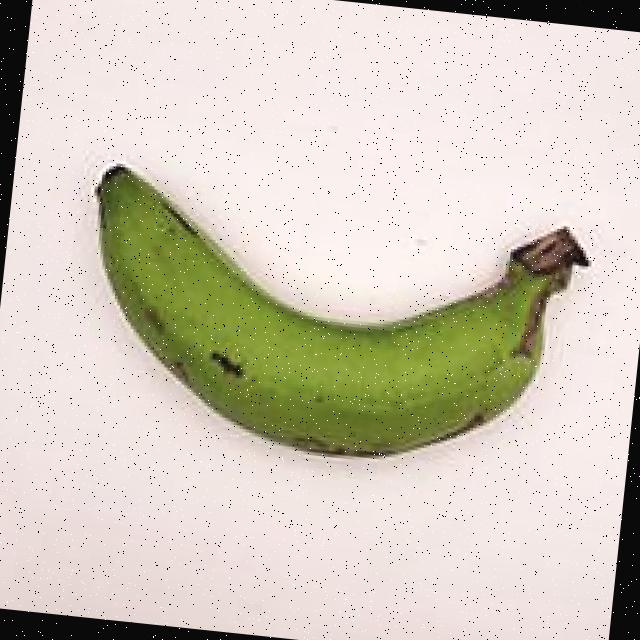Raw: (33, 113, 640, 525)
